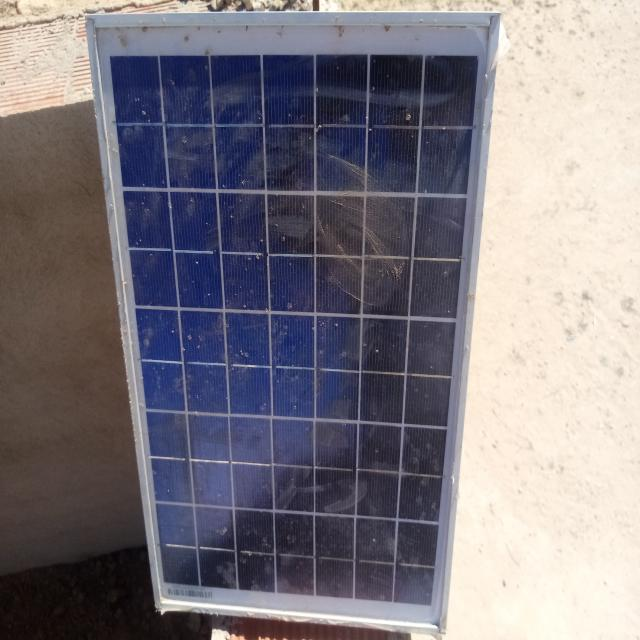faulty: (92, 14, 495, 630)
